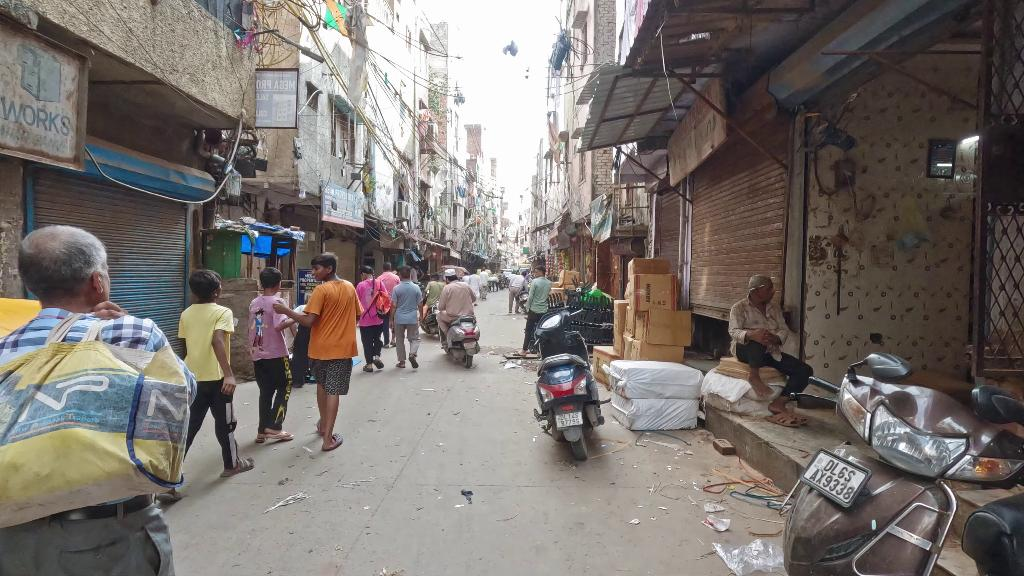garbage: (705, 535, 785, 576), (695, 492, 739, 535), (261, 484, 315, 517), (499, 356, 520, 377)
